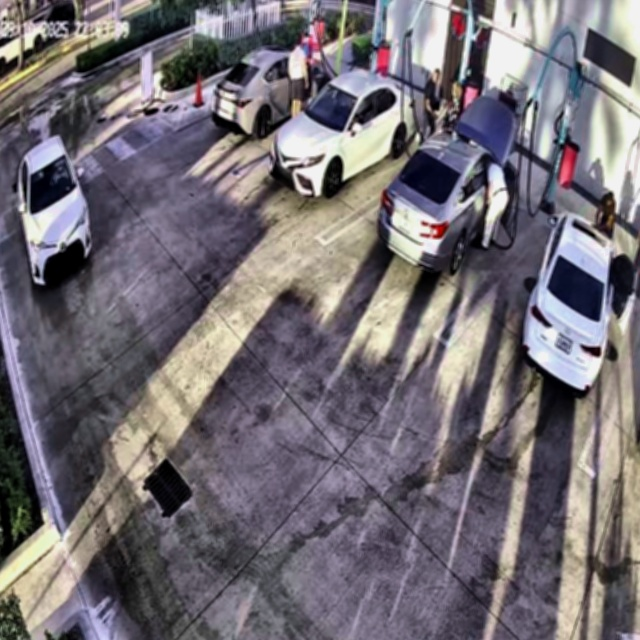Car: (374, 97, 527, 273), (273, 68, 417, 201)
